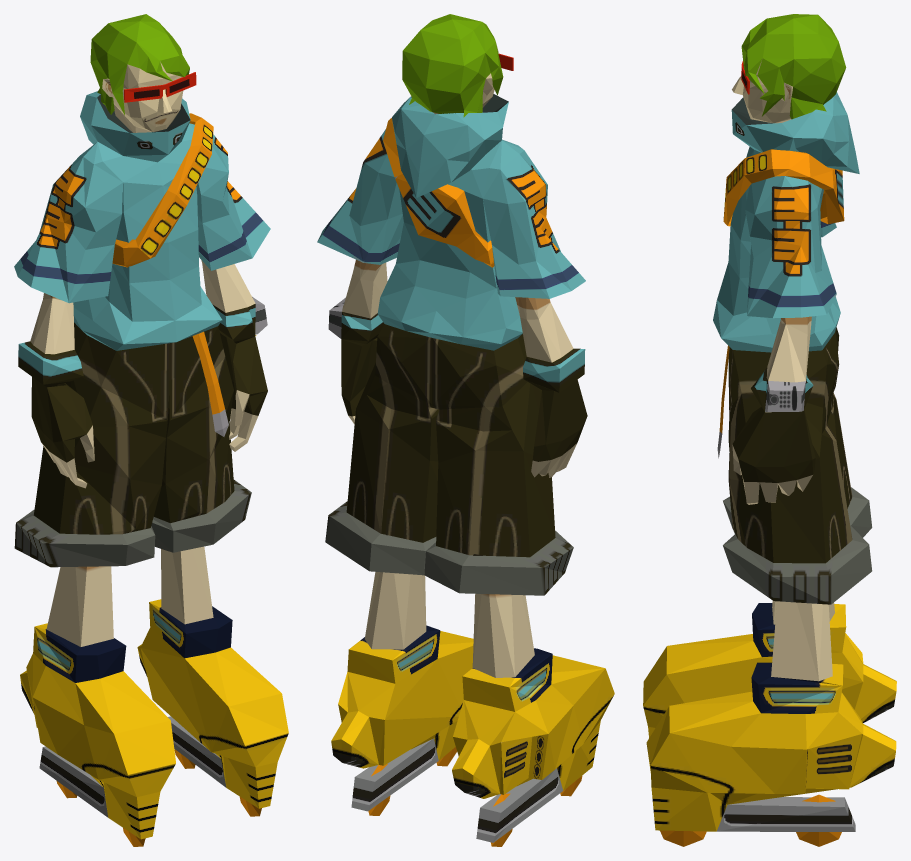
The model's file is yoyo.obj.
The picture shows the model from 3 angles, left to right: view 1: azimuth 30°, elevation 25°; view 2: azimuth 150°, elevation 25°; view 3: azimuth 270°, elevation 25°; orthographic projection. The views are drawn at different scales.
Visible parts, largest first — view 1: Yoyo_MDLB_212144_P20; view 2: Yoyo_MDLB_212144_P20; view 3: Yoyo_MDLB_212144_P20.
Boxes of the visible parts, left/top/right/bottom form: Yoyo_MDLB_212144_P20: left=14, top=14, right=288, bottom=846; Yoyo_MDLB_212144_P20: left=317, top=14, right=614, bottom=846; Yoyo_MDLB_212144_P20: left=643, top=14, right=896, bottom=846.
Bounding box in the file's own units: 5.56 × 17.1 × 4.92.
2 materials, 2 textured.
